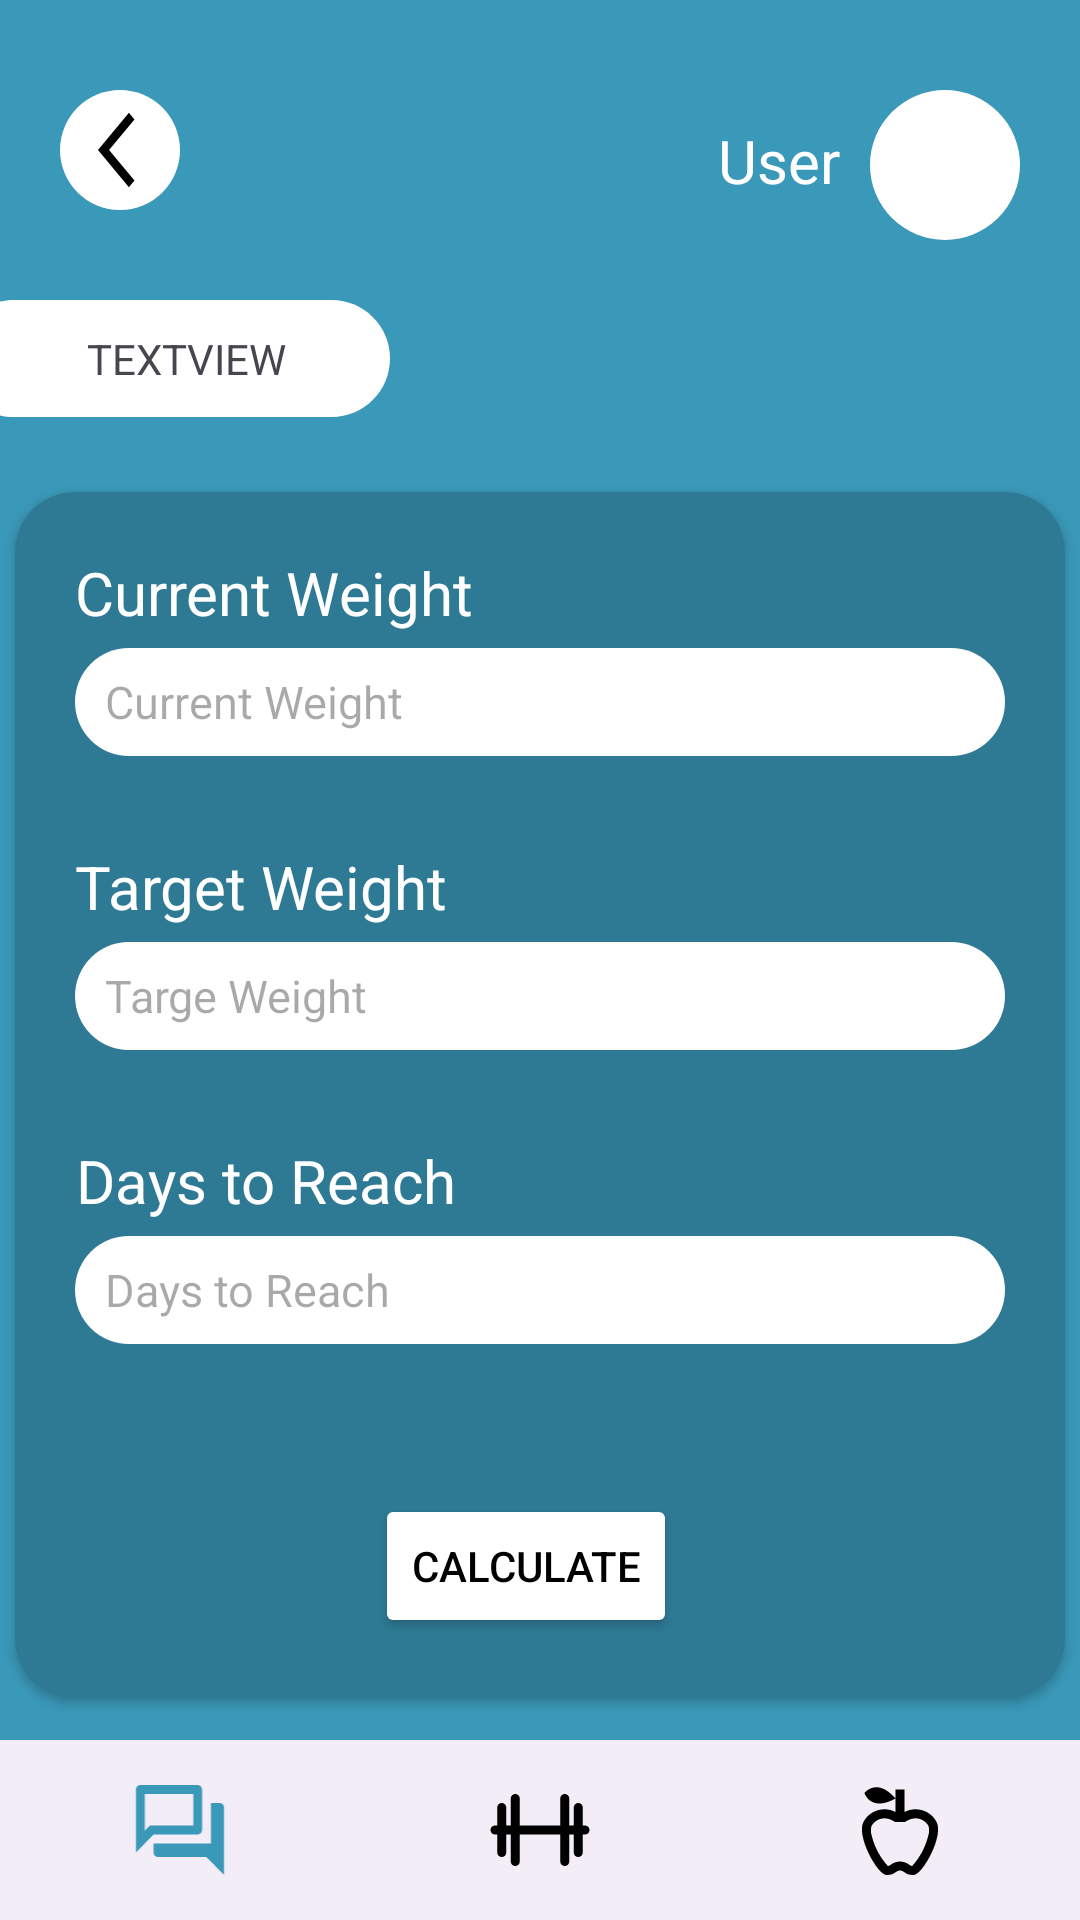

Point at icon controls on the screen. Image size 1080x1920, points as point (x, y).
arrow back: point (120, 150)
